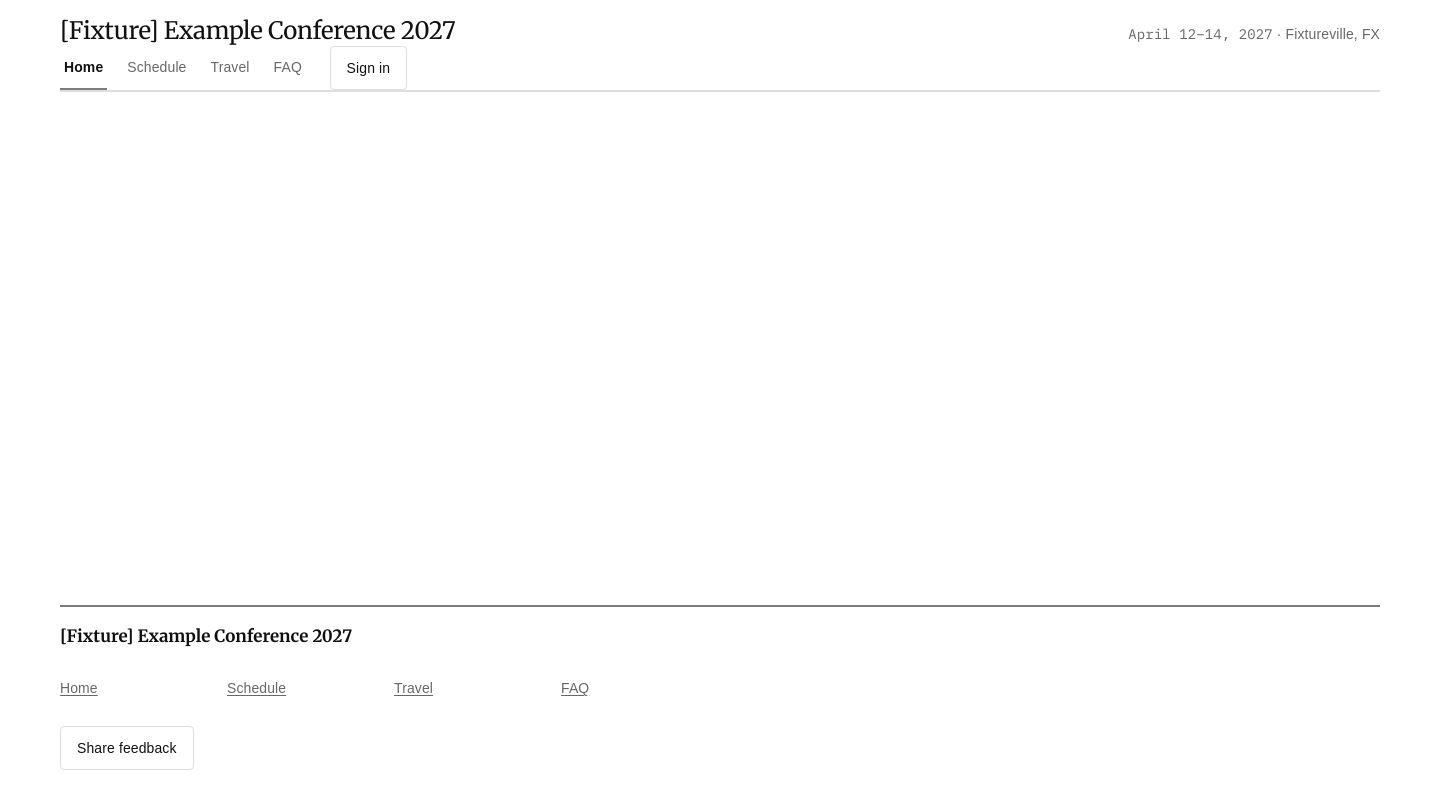
it: the footer change request control › opens the feedback dialog on demand when Share feedback is pressed
Click the button "Share feedback" at (127, 748), box [60, 726, 194, 770]
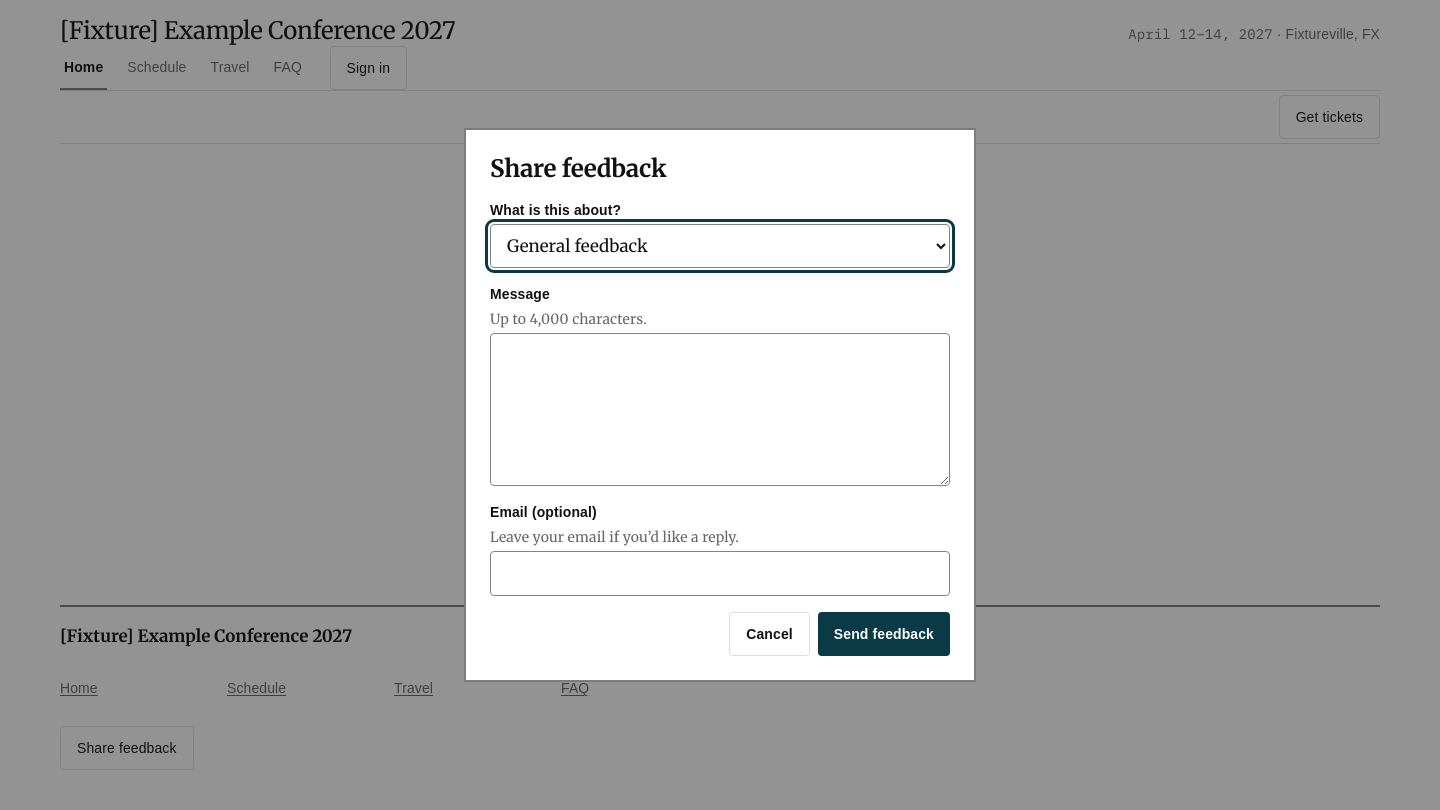
Check: the dialog "Share feedback" is shown, box [464, 128, 976, 682]
